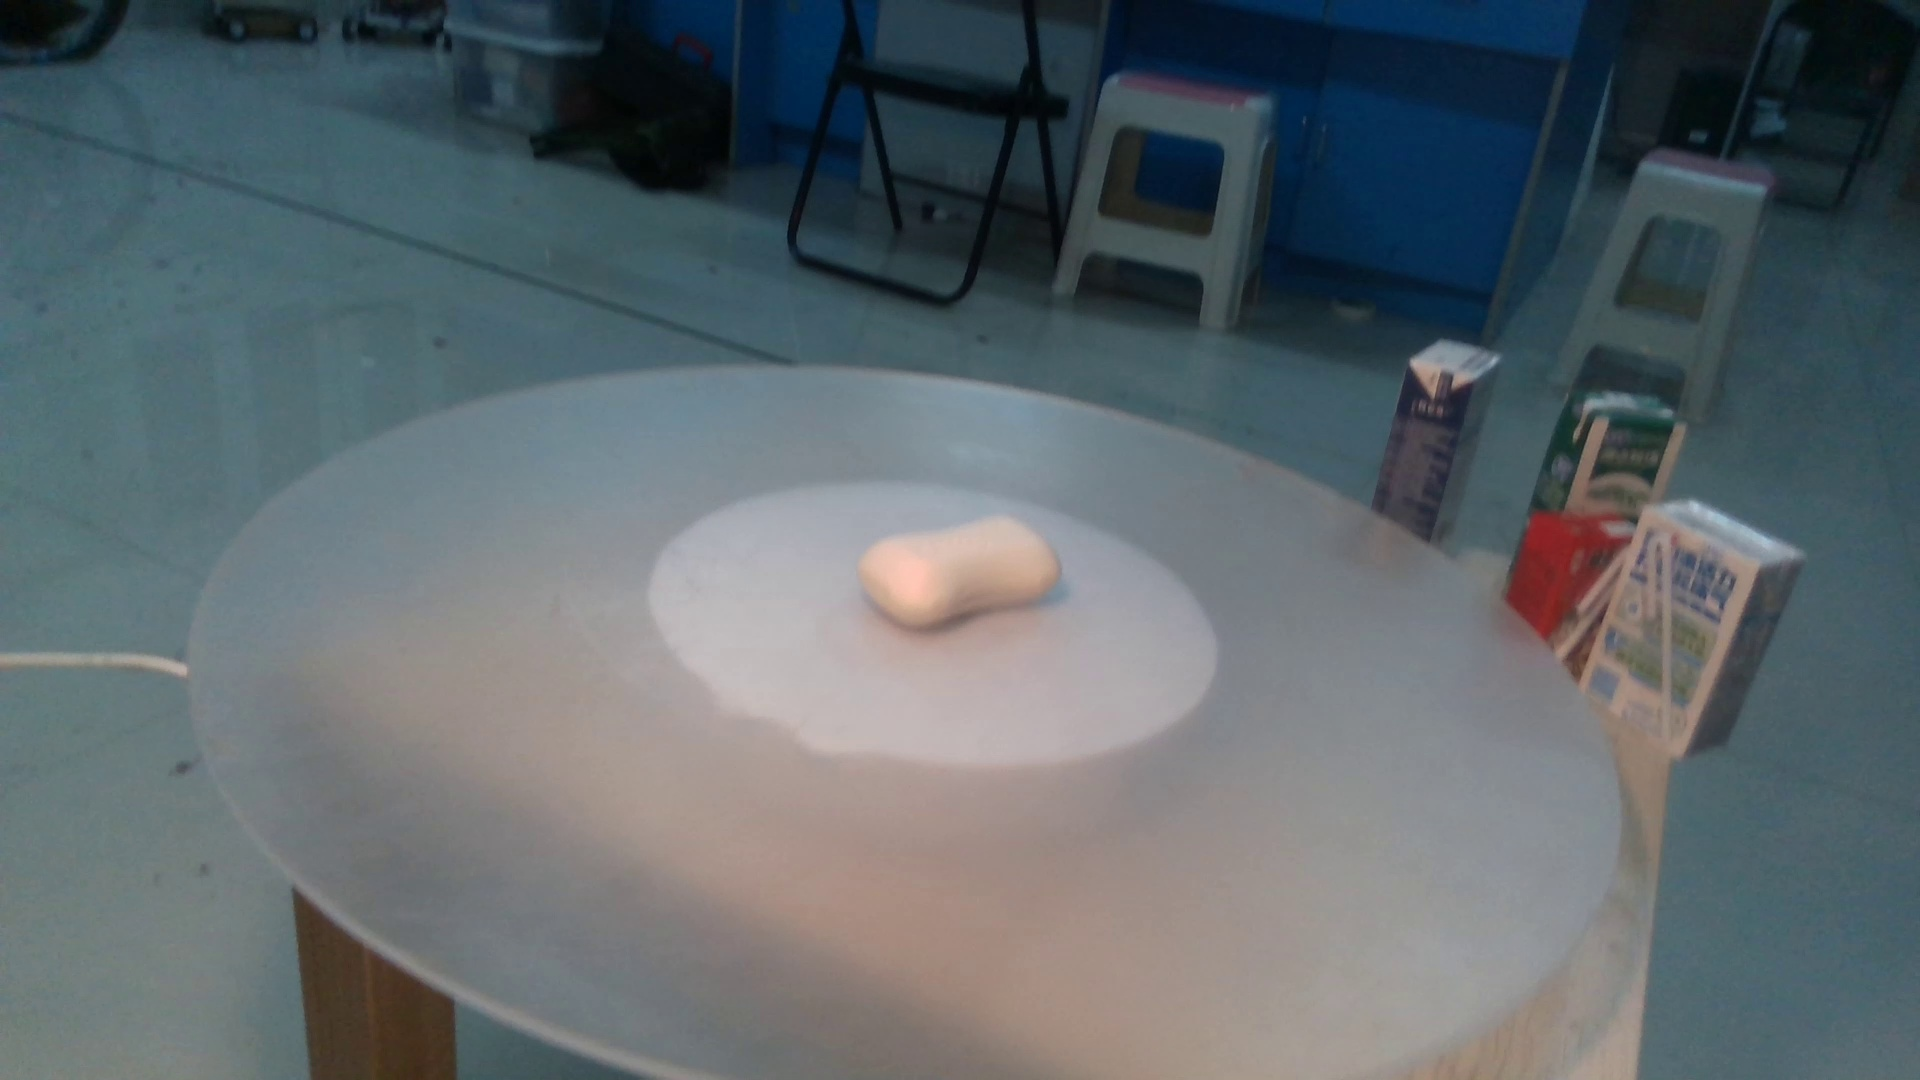CA003_1: (819, 483, 1102, 650)
